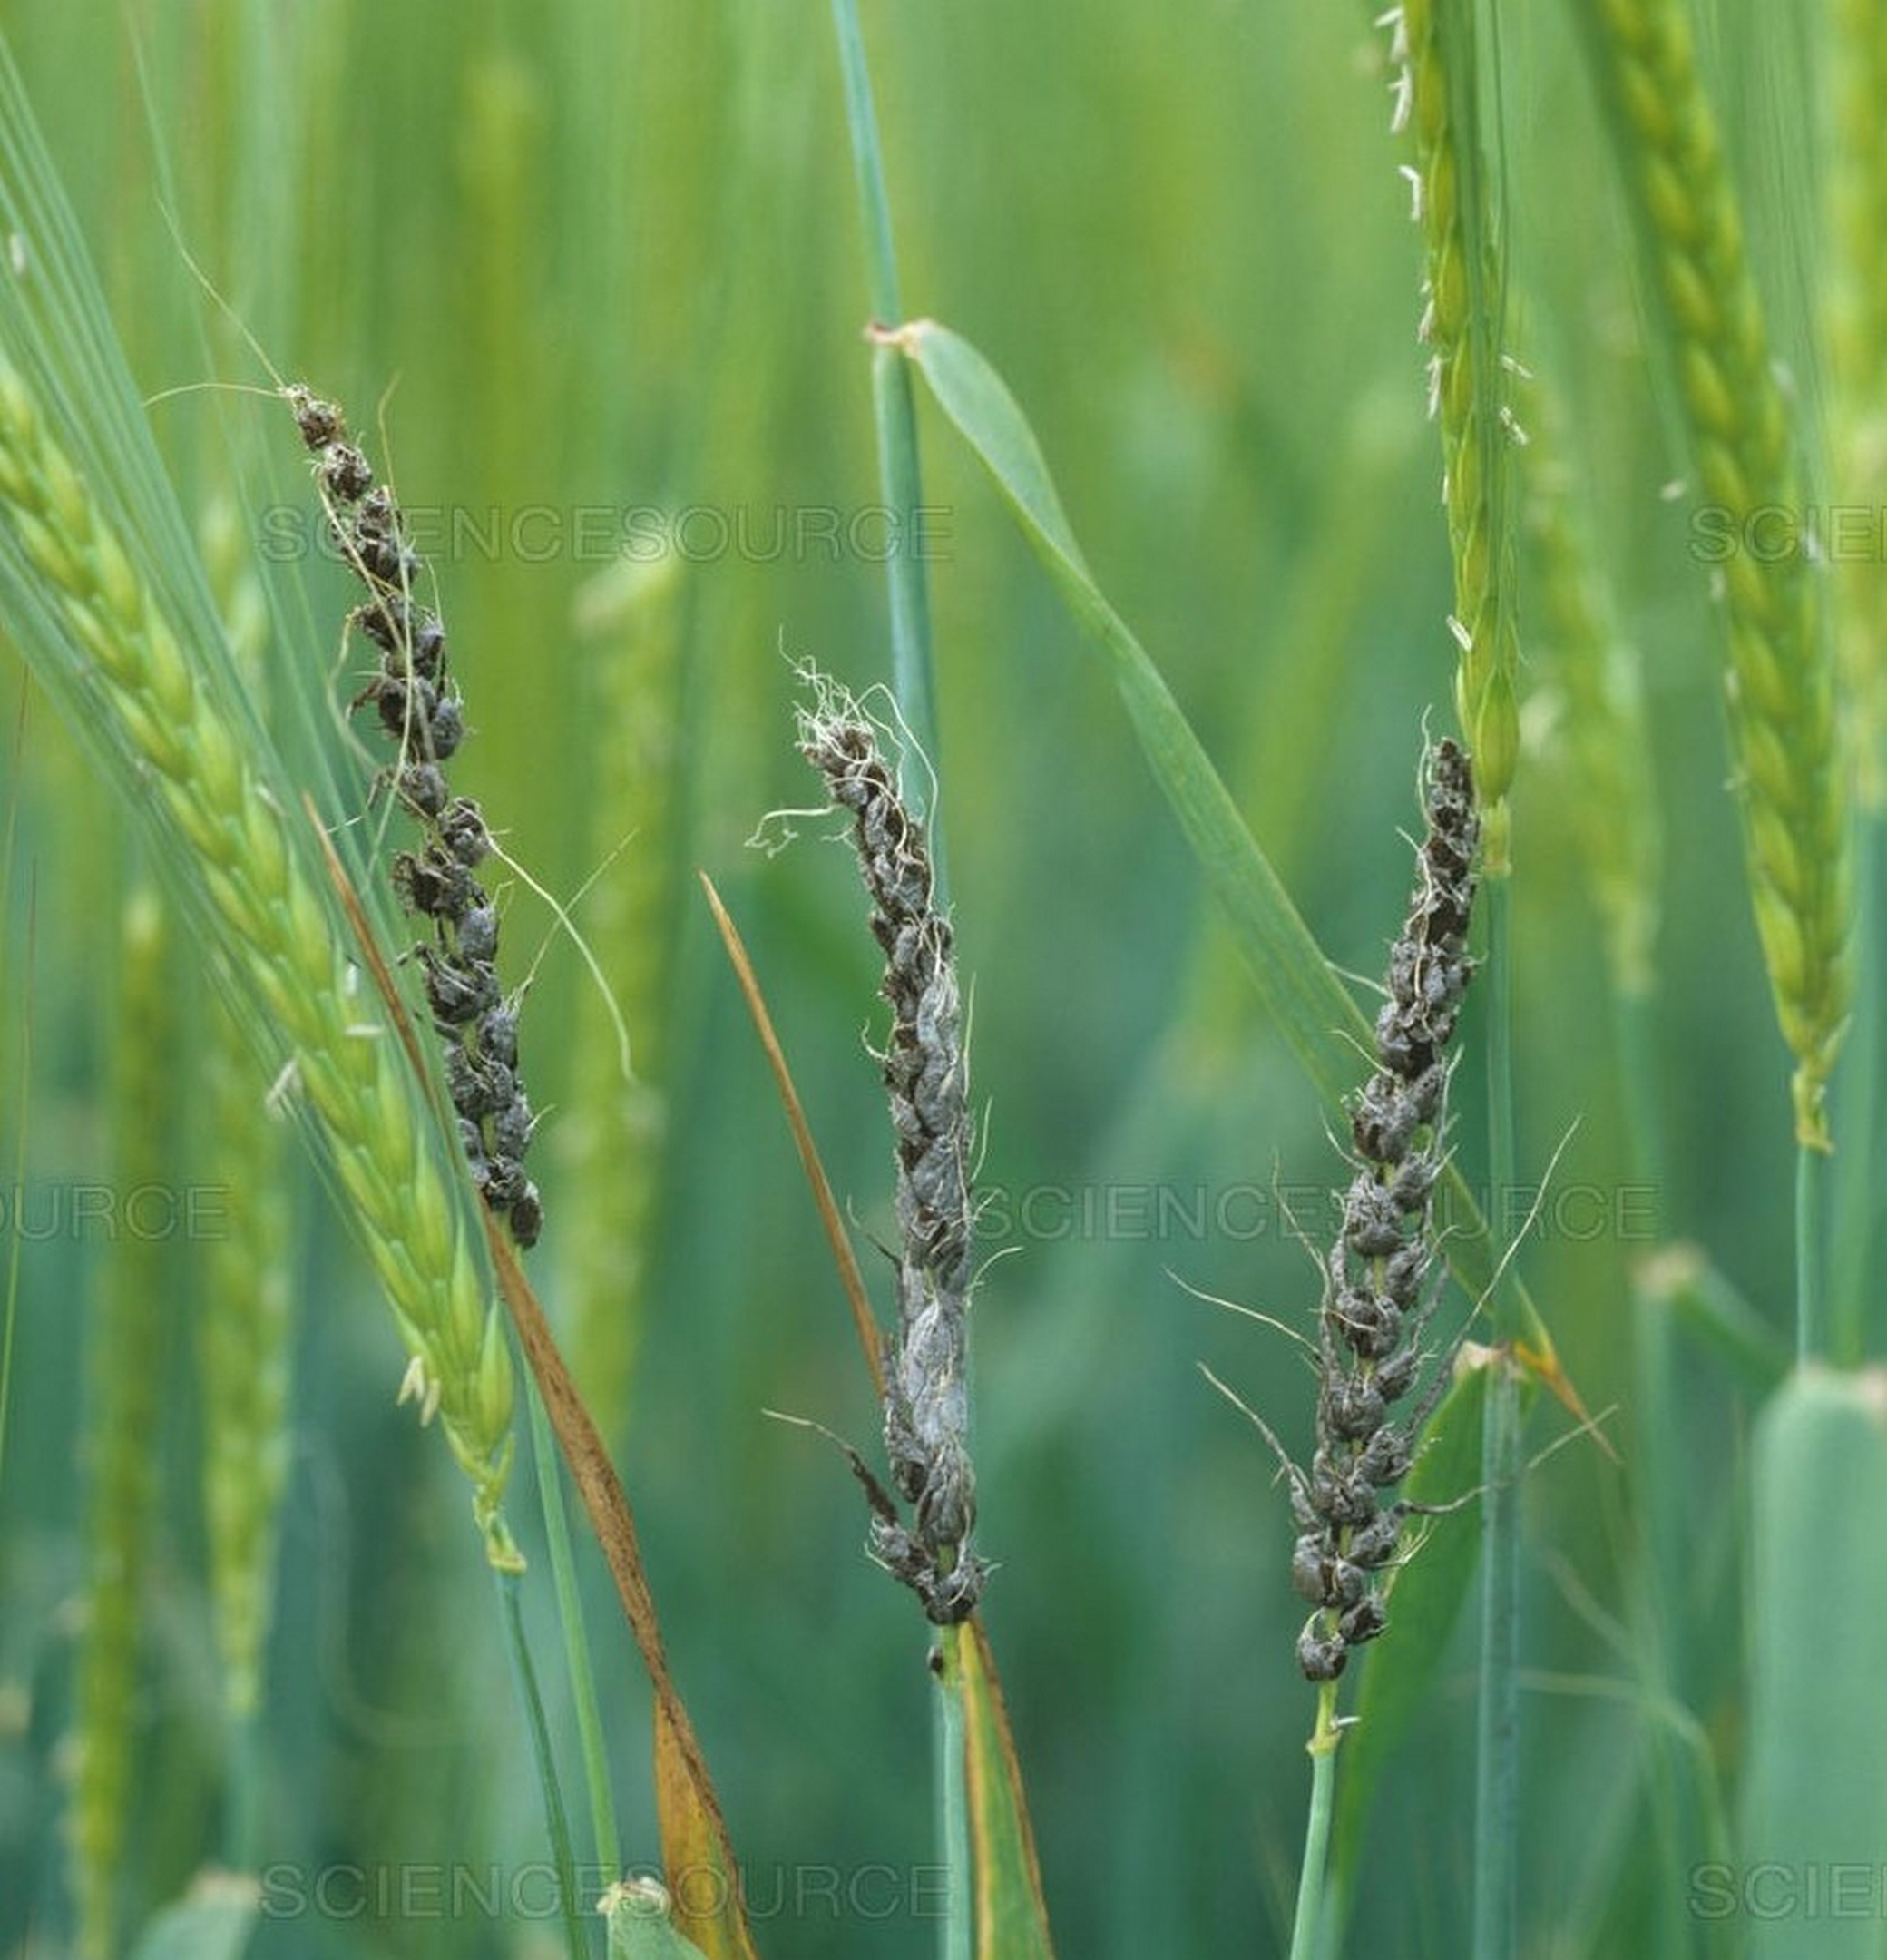Wheat Loose Smut: (761, 674, 1067, 1580), (268, 373, 595, 1195), (1259, 693, 1514, 1718)
